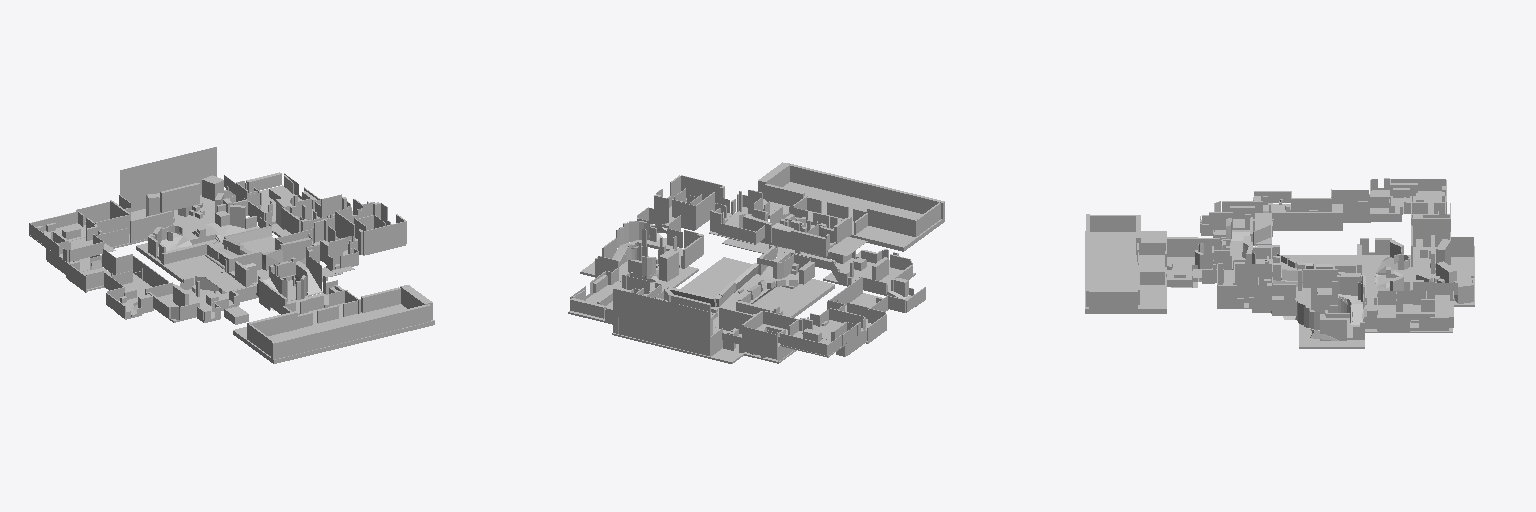
Rendered from kino_hitbox.obj.
3 renders of one model, left to right at view 1: azimuth 30°, elevation 25°; view 2: azimuth 150°, elevation 25°; view 3: azimuth 270°, elevation 25°, orthographic.
Visible parts, largest first — view 1: Cube.219, Cube.037, Cube.029, Cube.302, Cube.436, Cube.243, Cube.250, Cube.216, Cube.035, Cube.039, Cube.106, Cube.276; view 2: Cube.219, Cube.302, Cube.037, Cube.029, Cube.035, Cube.197, Cube.059, Cube.400, Cube.106, Cube.436, Cube.250, Cube.039 (+5 smaller); view 3: Cube.029, Cube.122, Cube.250, Cube.038, Cube.400, Cube.302, Cube.347, Cube.036, Cube.182, Cube.005, Cube.384, Cube.123.
Boxes of the visible parts, <box> form: Cube.219: <box>120,147,216,211</box>; Cube.037: <box>271,304,430,359</box>; Cube.029: <box>233,299,434,363</box>; Cube.302: <box>136,226,327,301</box>; Cube.436: <box>363,221,405,255</box>; Cube.243: <box>160,183,199,212</box>; Cube.250: <box>129,195,248,244</box>; Cube.216: <box>130,211,172,242</box>; Cube.035: <box>248,311,297,335</box>; Cube.039: <box>361,287,400,312</box>; Cube.106: <box>154,289,232,322</box>; Cube.276: <box>161,242,207,264</box>; Cube.219: <box>613,288,710,356</box>; Cube.302: <box>681,257,834,327</box>; Cube.037: <box>787,163,944,218</box>; Cube.029: <box>745,182,944,251</box>; Cube.035: <box>867,207,917,236</box>; Cube.197: <box>744,327,777,359</box>; Cube.059: <box>791,230,827,256</box>; Cube.400: <box>580,256,698,290</box>; Cube.106: <box>823,258,915,295</box>; Cube.436: <box>681,175,722,203</box>; Cube.250: <box>612,328,745,363</box>; Cube.039: <box>765,184,804,206</box>; Cube.029: <box>1085,231,1166,313</box>; Cube.122: <box>1272,212,1342,230</box>; Cube.250: <box>1411,246,1474,306</box>; Cube.038: <box>1089,288,1137,308</box>; Cube.400: <box>1299,307,1364,348</box>; Cube.302: <box>1252,255,1410,312</box>; Cube.347: <box>1365,305,1452,332</box>; Cube.036: <box>1090,215,1135,231</box>; Cube.182: <box>1412,218,1449,238</box>; Cube.005: <box>1167,237,1197,256</box>; Cube.384: <box>1303,269,1337,287</box>; Cube.123: <box>1291,198,1331,211</box>.
Bounding box in the file's own units: 120 × 22.93 × 139.